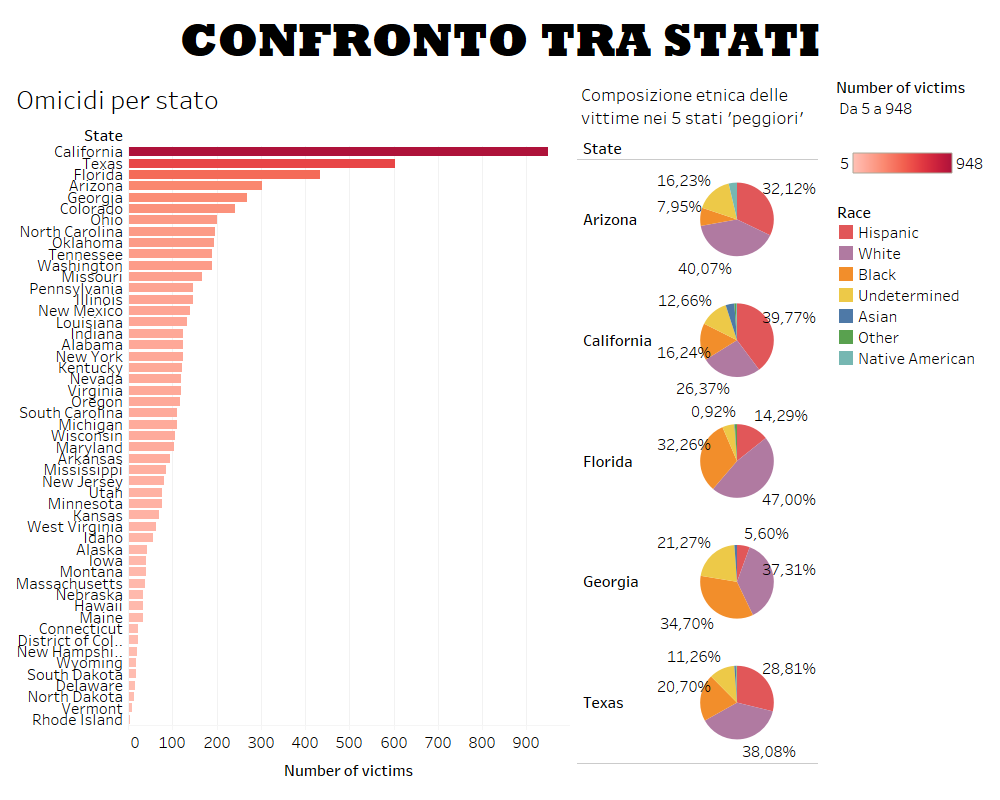

What the dashboard file says about the page in this screenshot:
{"tool":"tableau","page":{"name":"Dashboard 4","canvas":[1000,800],"ordinal":3},"visuals":[{"type":"title","box":[8,8,984,64]},{"type":"worksheet","title":"Foglio 10","mark":"Automatic","rows":["state "],"cols":["cleaned_dataset.csv_8241F1DBC24F4195940C49217215E1F5"],"box":[8,72,565,720]},{"type":"worksheet","title":"Foglio 12","mark":"Pie","rows":["state "],"box":[573,72,259,720]},{"type":"filter","title":"Foglio 10","param":"[federated.1p3l17z1kl7a3q19aif3b07l2cyk].[__tableau_internal_object_id__].[cnt:c","box":[832,72,160,73]},{"type":"legend","title":"Foglio 10","param":"[federated.1p3l17z1kl7a3q19aif3b07l2cyk].[__tableau_internal_object_id__].[cnt:c","box":[832,145,160,51]},{"type":"legend","title":"Foglio 12","param":"[federated.1p3l17z1kl7a3q19aif3b07l2cyk].[none:race :nk]","box":[832,196,160,177]}]}

Visuals, with their boxes in screenshot pixels (x1, y1, x2, y2), scaled from the page's 1000x800 canvas onto the 1000x800 screenshot:
title: <box>8,8,992,72</box>
"Foglio 10" worksheet: <box>8,72,573,792</box>
"Foglio 12" worksheet (Pie marks): <box>573,72,832,792</box>
"Foglio 10" filter: <box>832,72,992,145</box>
"Foglio 10" legend: <box>832,145,992,196</box>
"Foglio 12" legend: <box>832,196,992,373</box>
